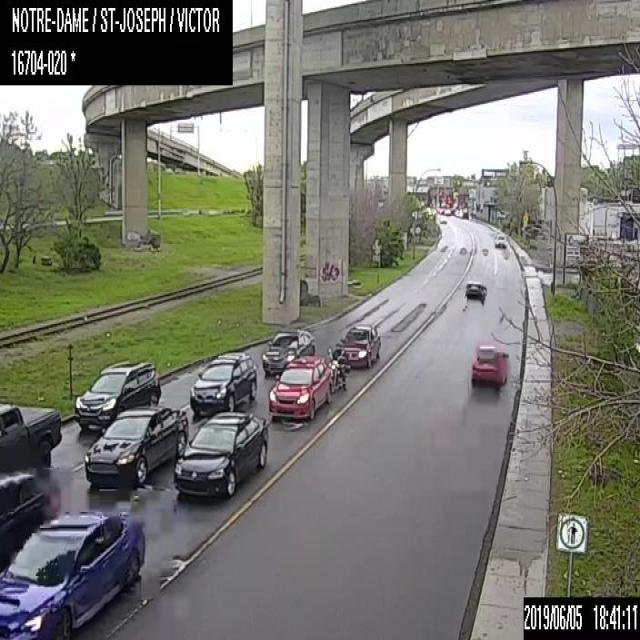vehicle: (0, 509, 145, 639), (83, 405, 187, 488), (172, 411, 267, 497), (74, 360, 160, 431), (0, 403, 62, 472), (268, 355, 330, 421), (189, 352, 257, 412), (0, 473, 52, 539), (262, 328, 314, 376), (340, 323, 381, 368), (471, 345, 508, 387), (328, 342, 350, 392), (464, 281, 487, 298), (493, 233, 506, 248), (439, 215, 446, 223)
